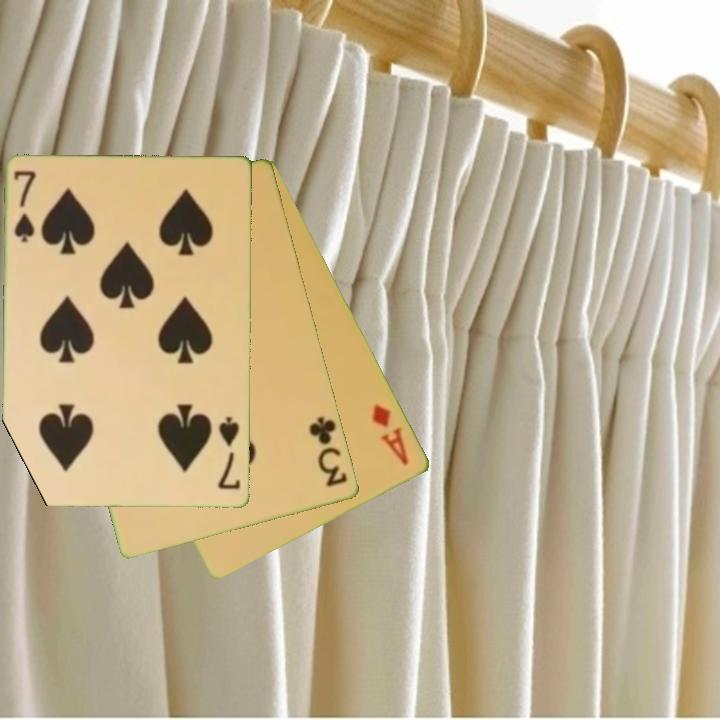3c: (306, 413, 351, 490)
7s: (214, 414, 243, 493), (11, 168, 40, 246)
Ad: (369, 400, 412, 469)
